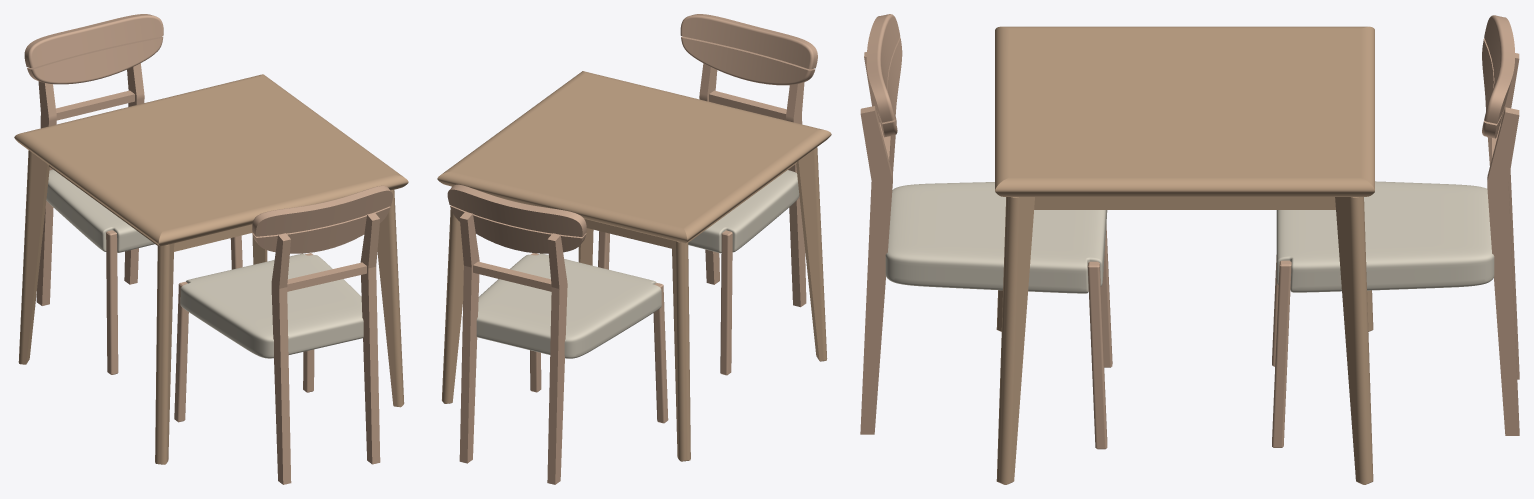
The model's file is 542_ダイニングテーブルセット2人掛け.glb.
3 renders of one model, left to right at view 1: azimuth 30°, elevation 25°; view 2: azimuth 150°, elevation 25°; view 3: azimuth 270°, elevation 25°, orthographic. The views are drawn at different scales.
Visible parts, largest first — view 1: Body, chair2, chair1; view 2: Body, chair1, chair2; view 3: Body, chair2, chair1.
Boxes of the visible parts, x1,y1,x2,y2 form: Body: (14,74,408,464); chair2: (174,185,392,484); chair1: (24,14,242,374); Body: (437,71,831,461); chair1: (447,184,668,484); chair2: (598,14,817,375); Body: (995,26,1374,484); chair2: (860,14,1112,449); chair1: (1272,15,1519,447).
Bounding box in the file's own units: 0.7974 × 0.8192 × 1.38.
